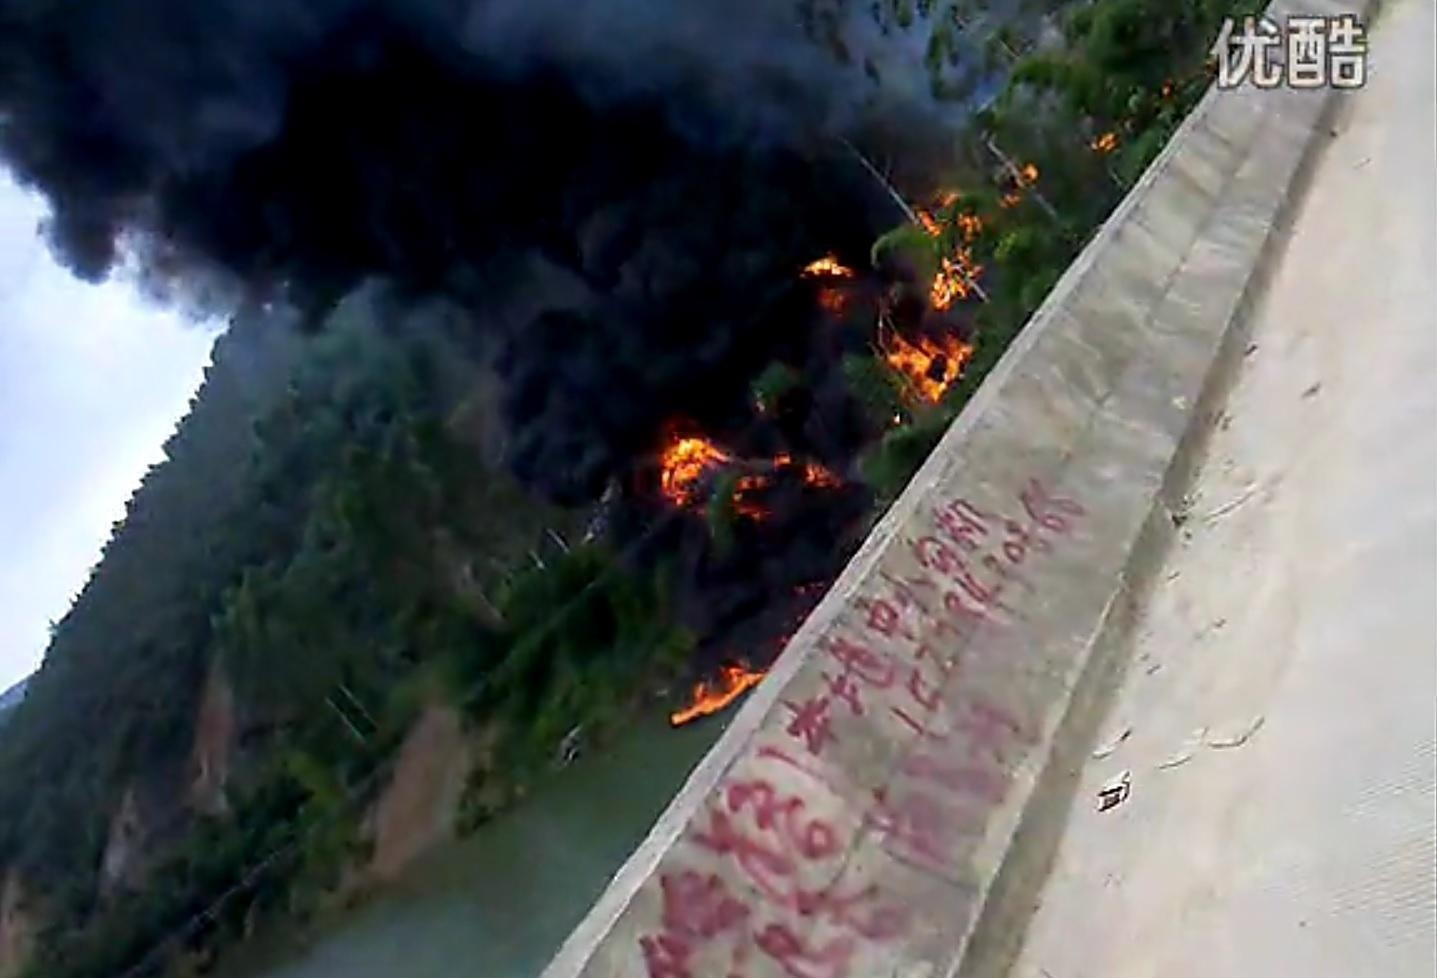fire: (817, 223, 984, 399), (656, 432, 831, 512), (679, 660, 761, 721), (1086, 126, 1122, 153)
